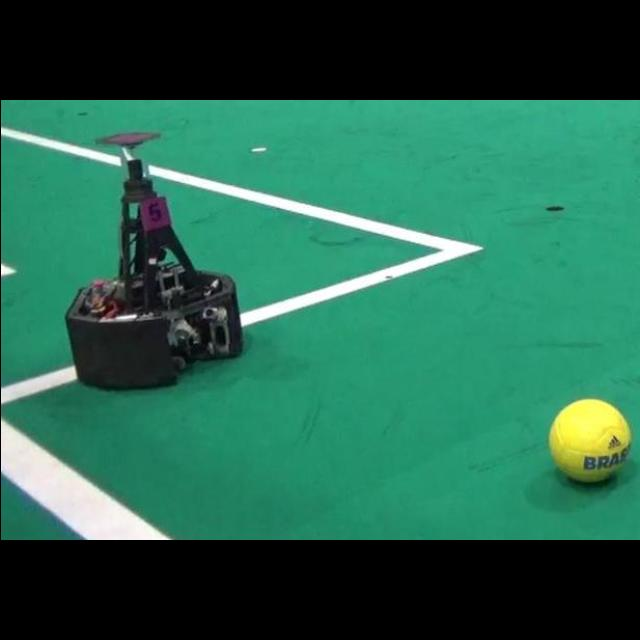ball: (549, 399, 631, 481)
robot: (64, 132, 242, 389)
